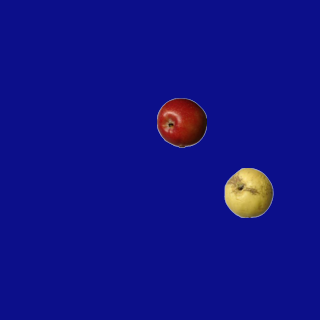Apple Braeburn: (156, 97, 206, 147)
Apple Golden 1: (223, 167, 273, 217)
